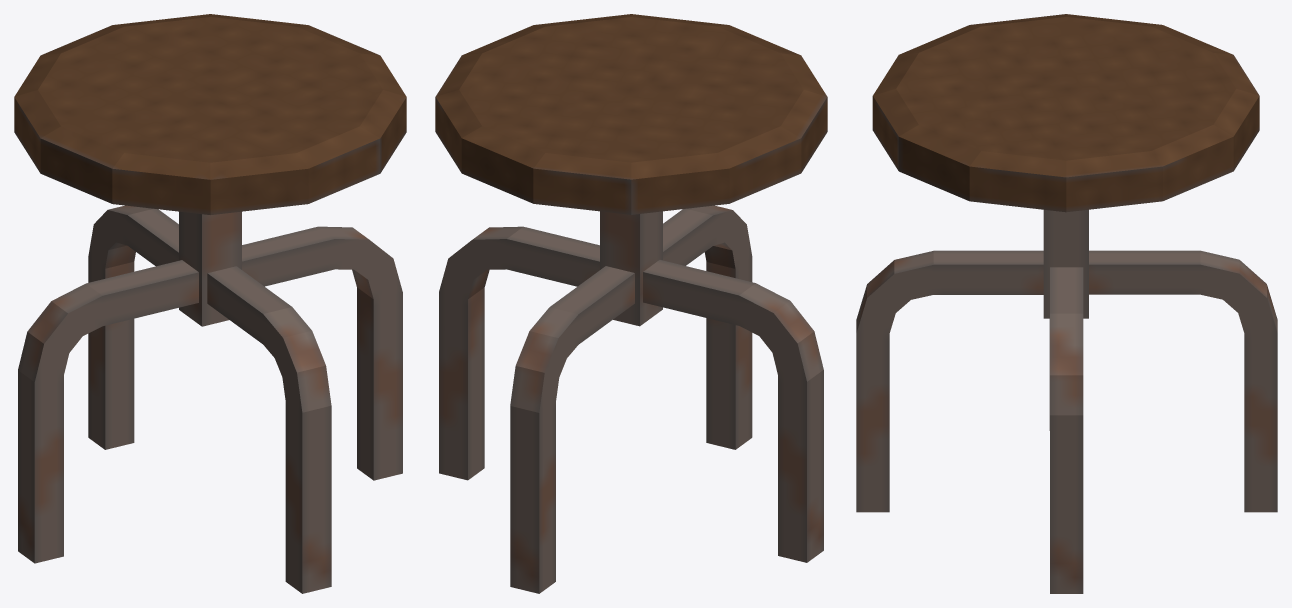
File: obj_footstool.fbx
The picture shows the model from 3 angles, left to right: view 1: azimuth 30°, elevation 25°; view 2: azimuth 150°, elevation 25°; view 3: azimuth 270°, elevation 25°; orthographic projection.
Parts seen in each view (by area): view 1: obj_footstool; view 2: obj_footstool; view 3: obj_footstool.
Boxes of the visible parts, box(x1,y1,x2,y2) form: obj_footstool: box(14, 14, 406, 593); obj_footstool: box(435, 14, 827, 593); obj_footstool: box(856, 14, 1277, 593).
Bounding box in the file's own units: 41.69 × 45.71 × 41.88.
